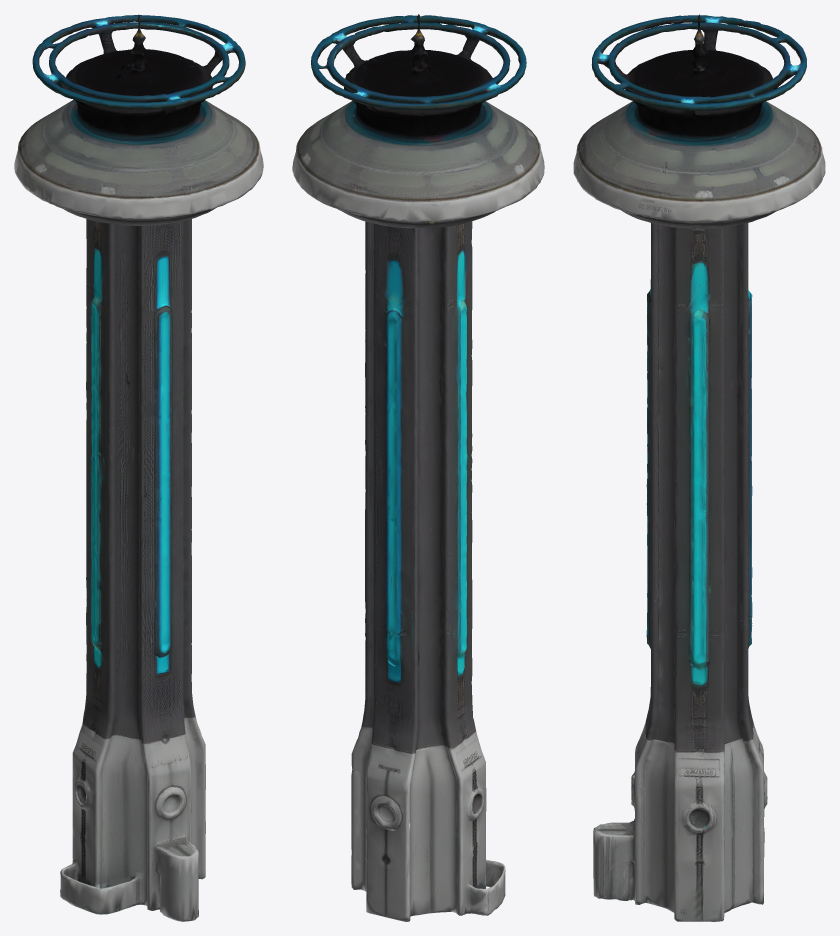
The model's file is watchfield-sentinel-beacon.glb.
3 views of the same model, side by side, from view 1: azimuth 30°, elevation 25°; view 2: azimuth 150°, elevation 25°; view 3: azimuth 270°, elevation 25° (orthographic).
Size of the model in its own units: 0.4542 by 1.75 by 0.4539.
Materials: 1 (1 with a texture image).
